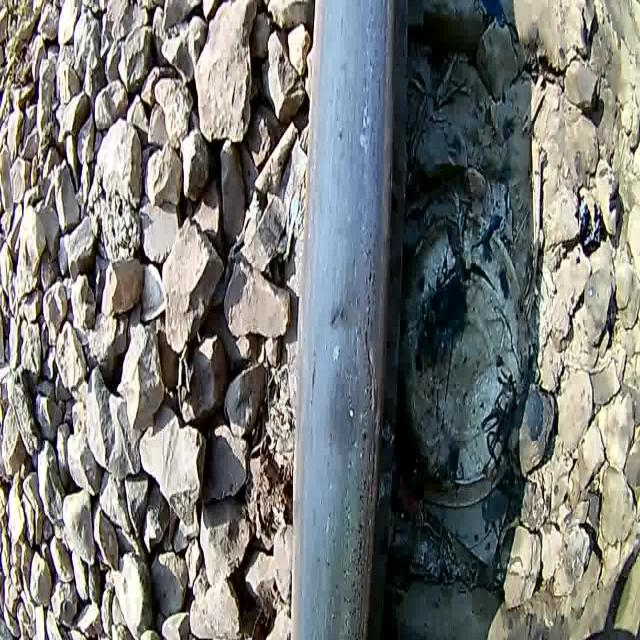Squats: (270, 0, 422, 640)
